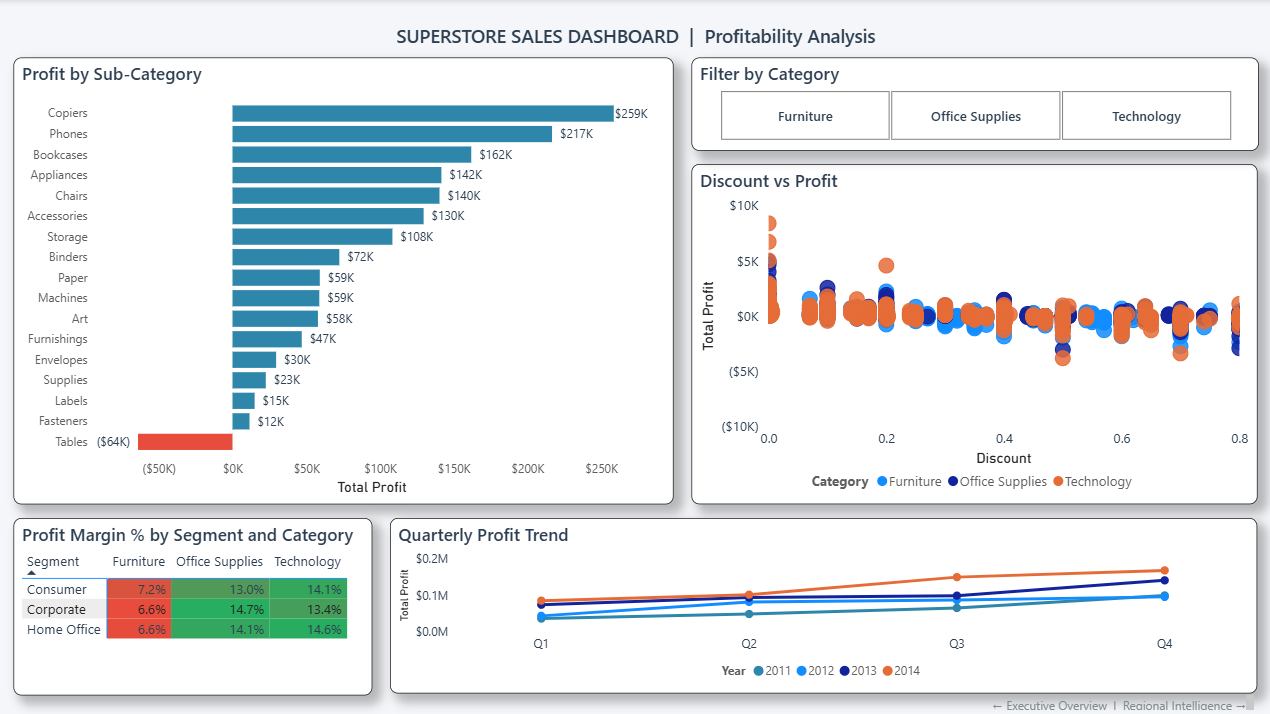

Layout of this report page (visuals, bound fields, positions):
{"tool":"powerbi","page":{"name":"Profitability Analysis","canvas":[1280,720],"ordinal":1},"visuals":[{"type":"clusteredBarChart","title":"Profit by Sub-Category","fields":{"Category":["Orders.Sub-Category"],"Y":["_DAXMeasures.Total Profit"]},"box":[14.2,58.4,664.7,450],"z":0},{"type":"scatterChart","title":"Discount vs Profit","fields":{"X":["Sum(Orders.Discount)"],"Y":["_DAXMeasures.Total Profit"],"Series":["Orders.Category"],"Category":["Orders.Order ID"]},"box":[696.3,165.8,570,342.6],"z":1000},{"type":"pivotTable","title":"Profit Margin % by Segment and Category","fields":{"Rows":["Orders.Segment"],"Columns":["Orders.Category"],"Values":["_DAXMeasures.Profit Margin %"]},"box":[14.2,522.6,361.6,178.4],"z":2000},{"type":"lineChart","title":"Quarterly Profit Trend","fields":{"Category":["Date Table.Quarter"],"Y":["_DAXMeasures.Total Profit"],"Series":["Date Table.Year"]},"box":[393.2,522.6,873.2,176.8],"z":3000},{"type":"slicer","title":"Filter by Category","fields":{"Values":["Orders.Category"]},"box":[696.7,58.9,571,93.8],"z":4000},{"type":"textbox","box":[0,0,1280.4,73.2],"z":5000},{"type":"textbox","box":[960.7,686.6,307,33.4],"z":6000}]}

Visuals, with their boxes in screenshot pixels (x1, y1, x2, y2), scaled from the page's 1280x720 canvas onto the 1270x714 screenshot:
"Profit by Sub-Category" clusteredBarChart: (left=14, top=58, right=674, bottom=504)
"Discount vs Profit" scatterChart: (left=691, top=164, right=1256, bottom=504)
"Profit Margin % by Segment and Category" pivotTable: (left=14, top=518, right=373, bottom=695)
"Quarterly Profit Trend" lineChart: (left=390, top=518, right=1257, bottom=694)
"Filter by Category" slicer: (left=691, top=58, right=1258, bottom=151)
textbox: (left=0, top=0, right=1269, bottom=73)
textbox: (left=953, top=681, right=1258, bottom=713)
